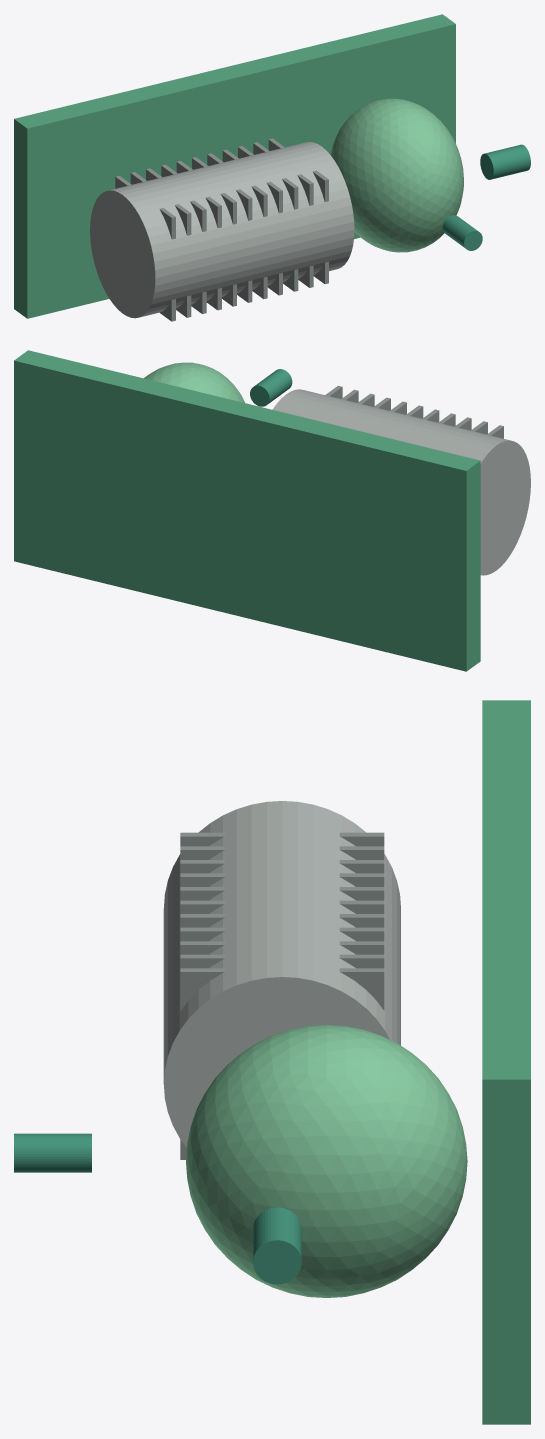
Rendered from candidate-c.glb.
The picture shows the model from 3 angles, top to bottom: view 1: azimuth 30°, elevation 25°; view 2: azimuth 150°, elevation 25°; view 3: azimuth 270°, elevation 25°; orthographic projection. The views are drawn at different scales.
Visible parts, largest first — view 1: equipment_base, motor, pump_casing, connector_inlet, connector_outlet, motor_fin_01, motor_fin_08, motor_fin_05, motor_fin_02, motor_fin_03, motor_fin_06, motor_fin_09 (+4 smaller); view 2: equipment_base, motor, pump_casing, connector_outlet; view 3: pump_casing, motor, equipment_base, connector_inlet, connector_outlet, motor_fin_10, motor_fin_00, motor_fin_09, motor_fin_07, motor_fin_03, motor_fin_05, motor_fin_01 (+4 smaller).
Boxes of the visible parts, x1,y1,x2,y2 form: equipment_base: (14, 14, 455, 318); motor: (90, 142, 354, 318); pump_casing: (330, 98, 463, 252); connector_inlet: (480, 144, 530, 179); connector_outlet: (442, 215, 482, 250); motor_fin_01: (130, 172, 191, 317); motor_fin_08: (238, 146, 298, 291); motor_fin_05: (192, 157, 252, 302); motor_fin_02: (146, 168, 206, 313); motor_fin_03: (161, 164, 221, 310); motor_fin_06: (207, 153, 267, 299); motor_fin_09: (253, 142, 313, 287); equipment_base: (14, 350, 480, 671); motor: (272, 389, 530, 575); pump_casing: (144, 362, 244, 402); connector_outlet: (250, 369, 292, 406); pump_casing: (186, 1025, 467, 1297); motor: (163, 801, 400, 1147); equipment_base: (482, 700, 530, 1424); connector_inlet: (253, 1207, 301, 1284); connector_outlet: (14, 1133, 91, 1172); motor_fin_10: (180, 968, 384, 1159); motor_fin_00: (180, 832, 384, 846); motor_fin_09: (180, 954, 384, 968); motor_fin_07: (180, 927, 384, 941); motor_fin_03: (180, 873, 384, 886); motor_fin_05: (180, 900, 384, 913); motor_fin_01: (180, 846, 384, 859).
Bounding box in the file's own units: 1.89 × 0.78 × 1.06.
